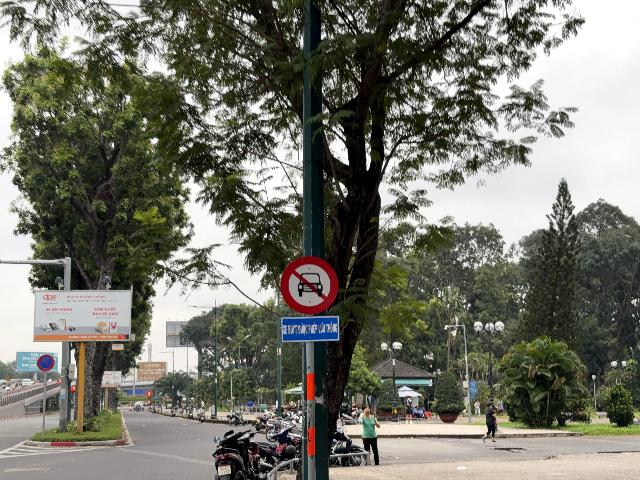cam-o-to: (281, 256, 338, 315)
